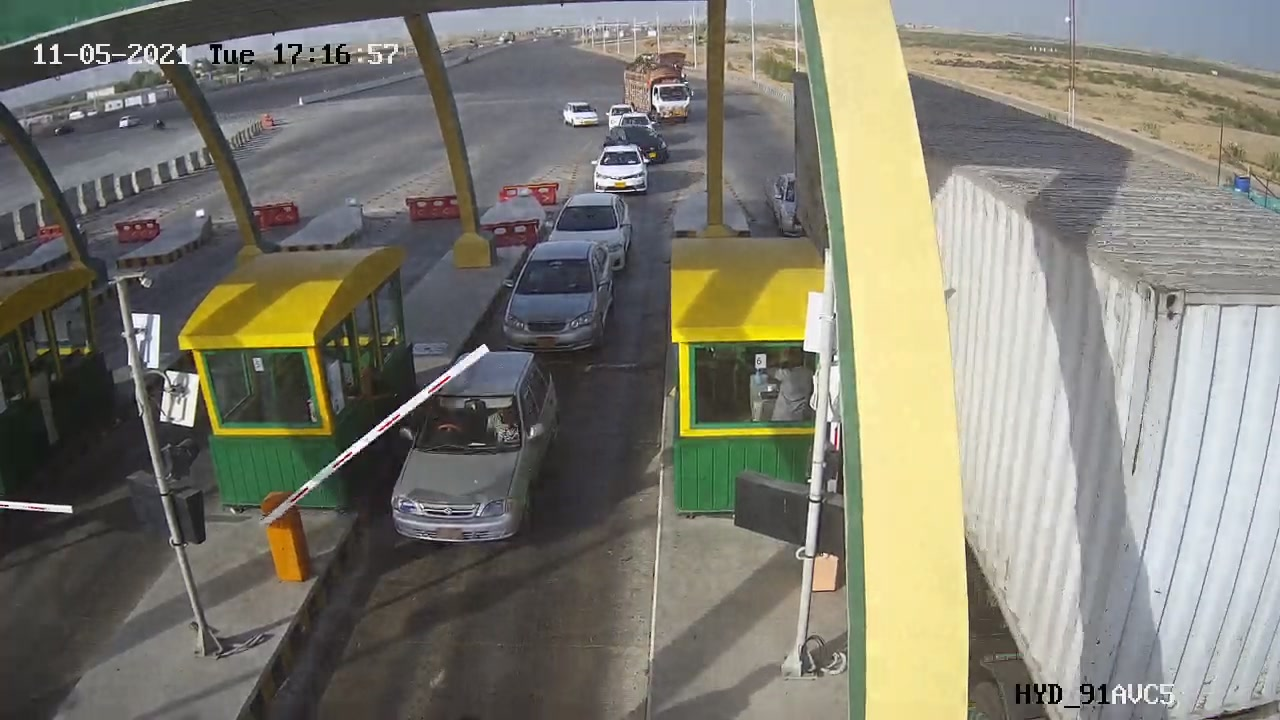F1: (370, 342, 585, 557), (490, 229, 631, 364)
